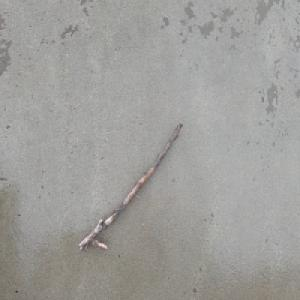Wood: (77, 119, 184, 252)
